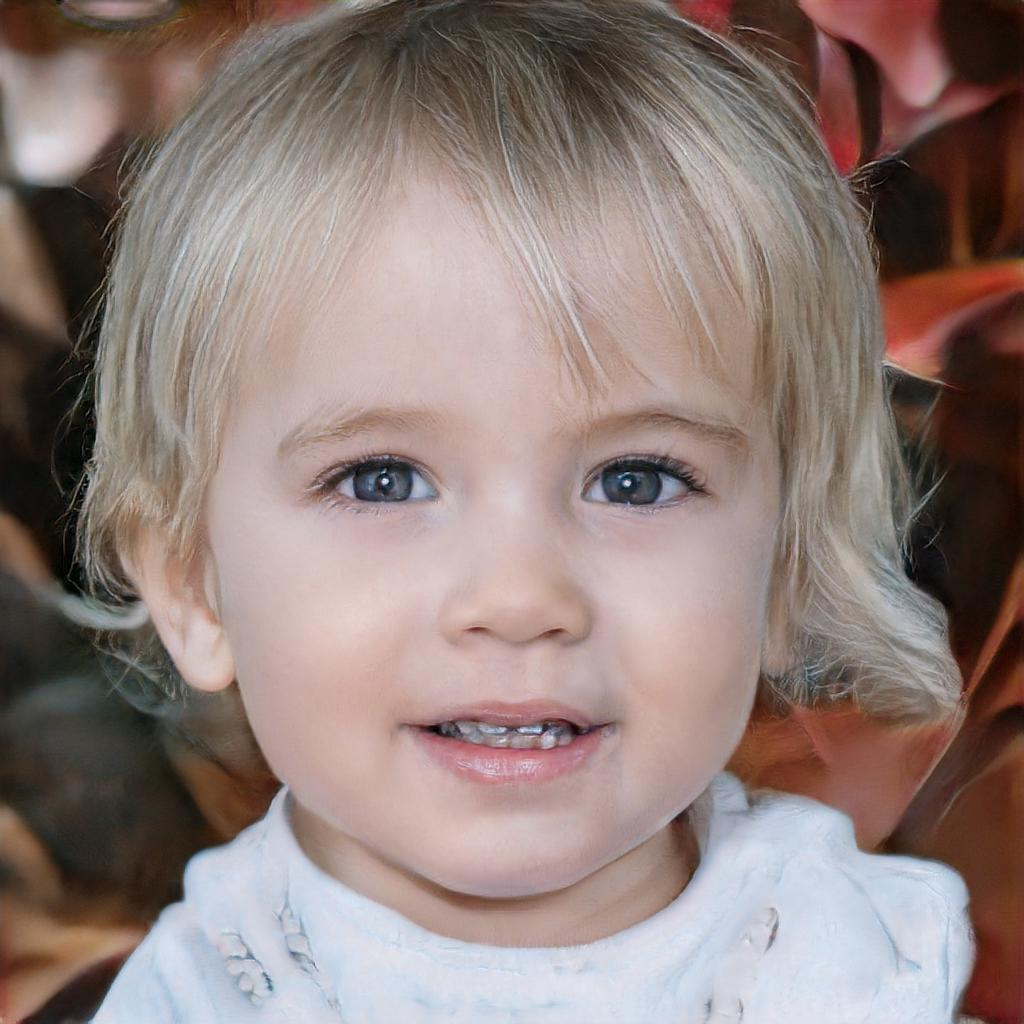face: (208, 160, 778, 897)
